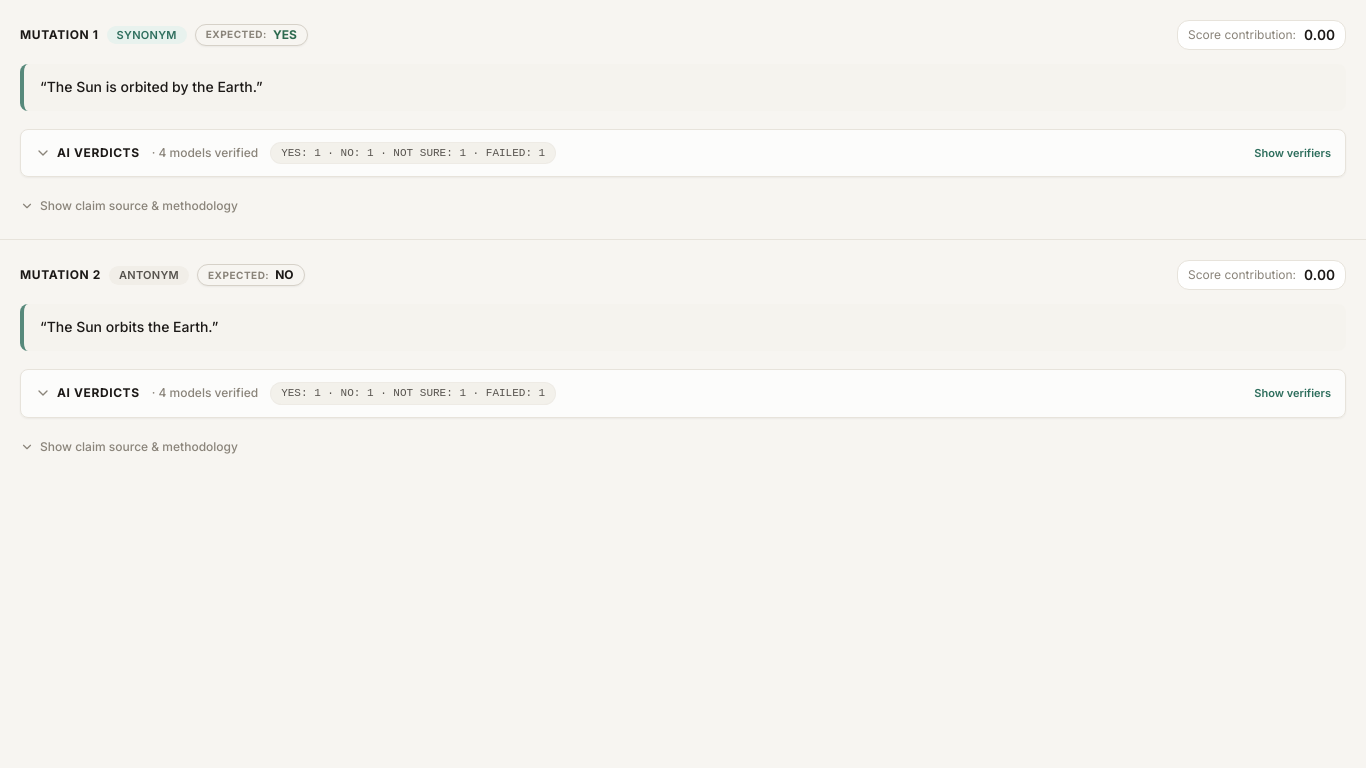
Scenario: MutationRow independent state integration › maintains independent expansion state across multiple mutations
# Expand only mutation 1
Click the button "AI Verdicts" below "The Sun is orbited by the Earth." at (98, 152), box [21,130,1345,176]
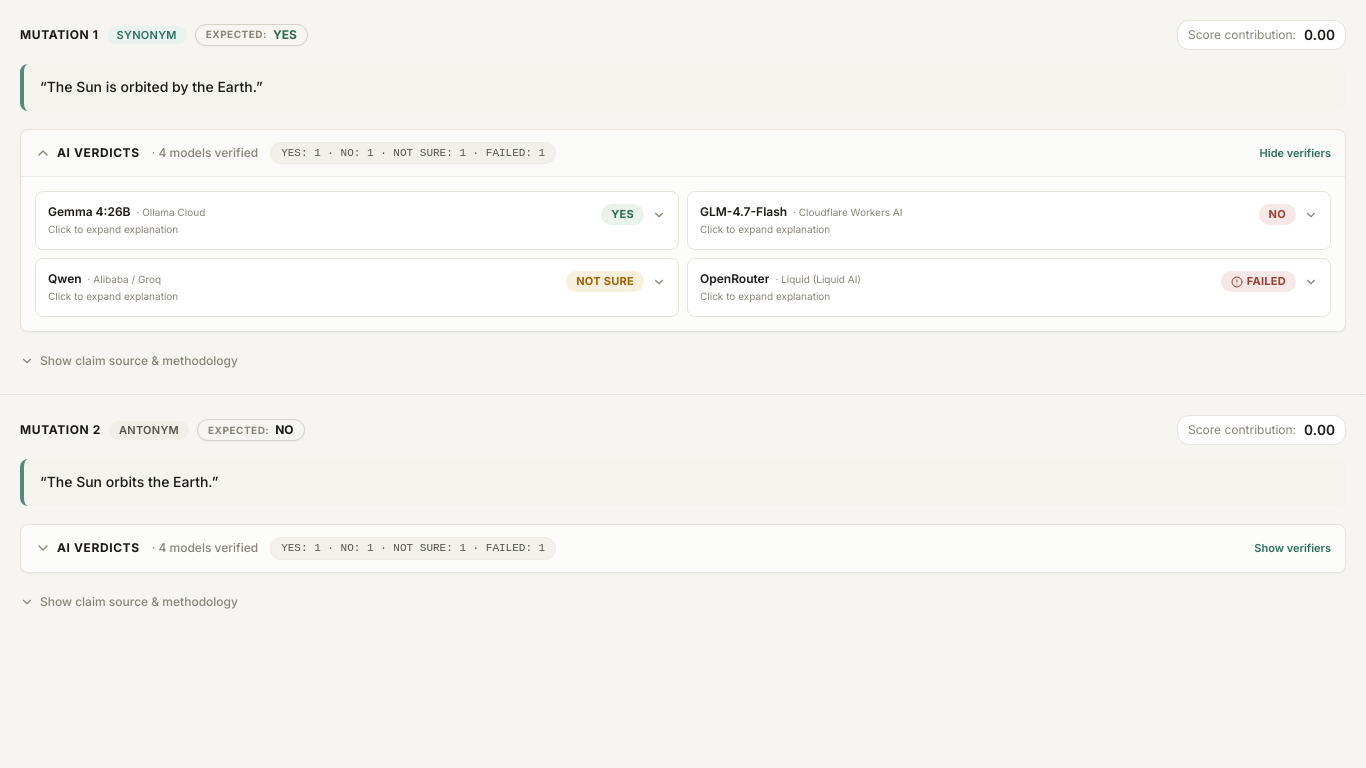
Check: the button "AI Verdicts" is expanded, box [21,130,1345,177]
Check: the number of buttons "Gemma 4:26B · Ollama Cloud Click to expand explanation YES" is 1, box [36,192,678,249]
